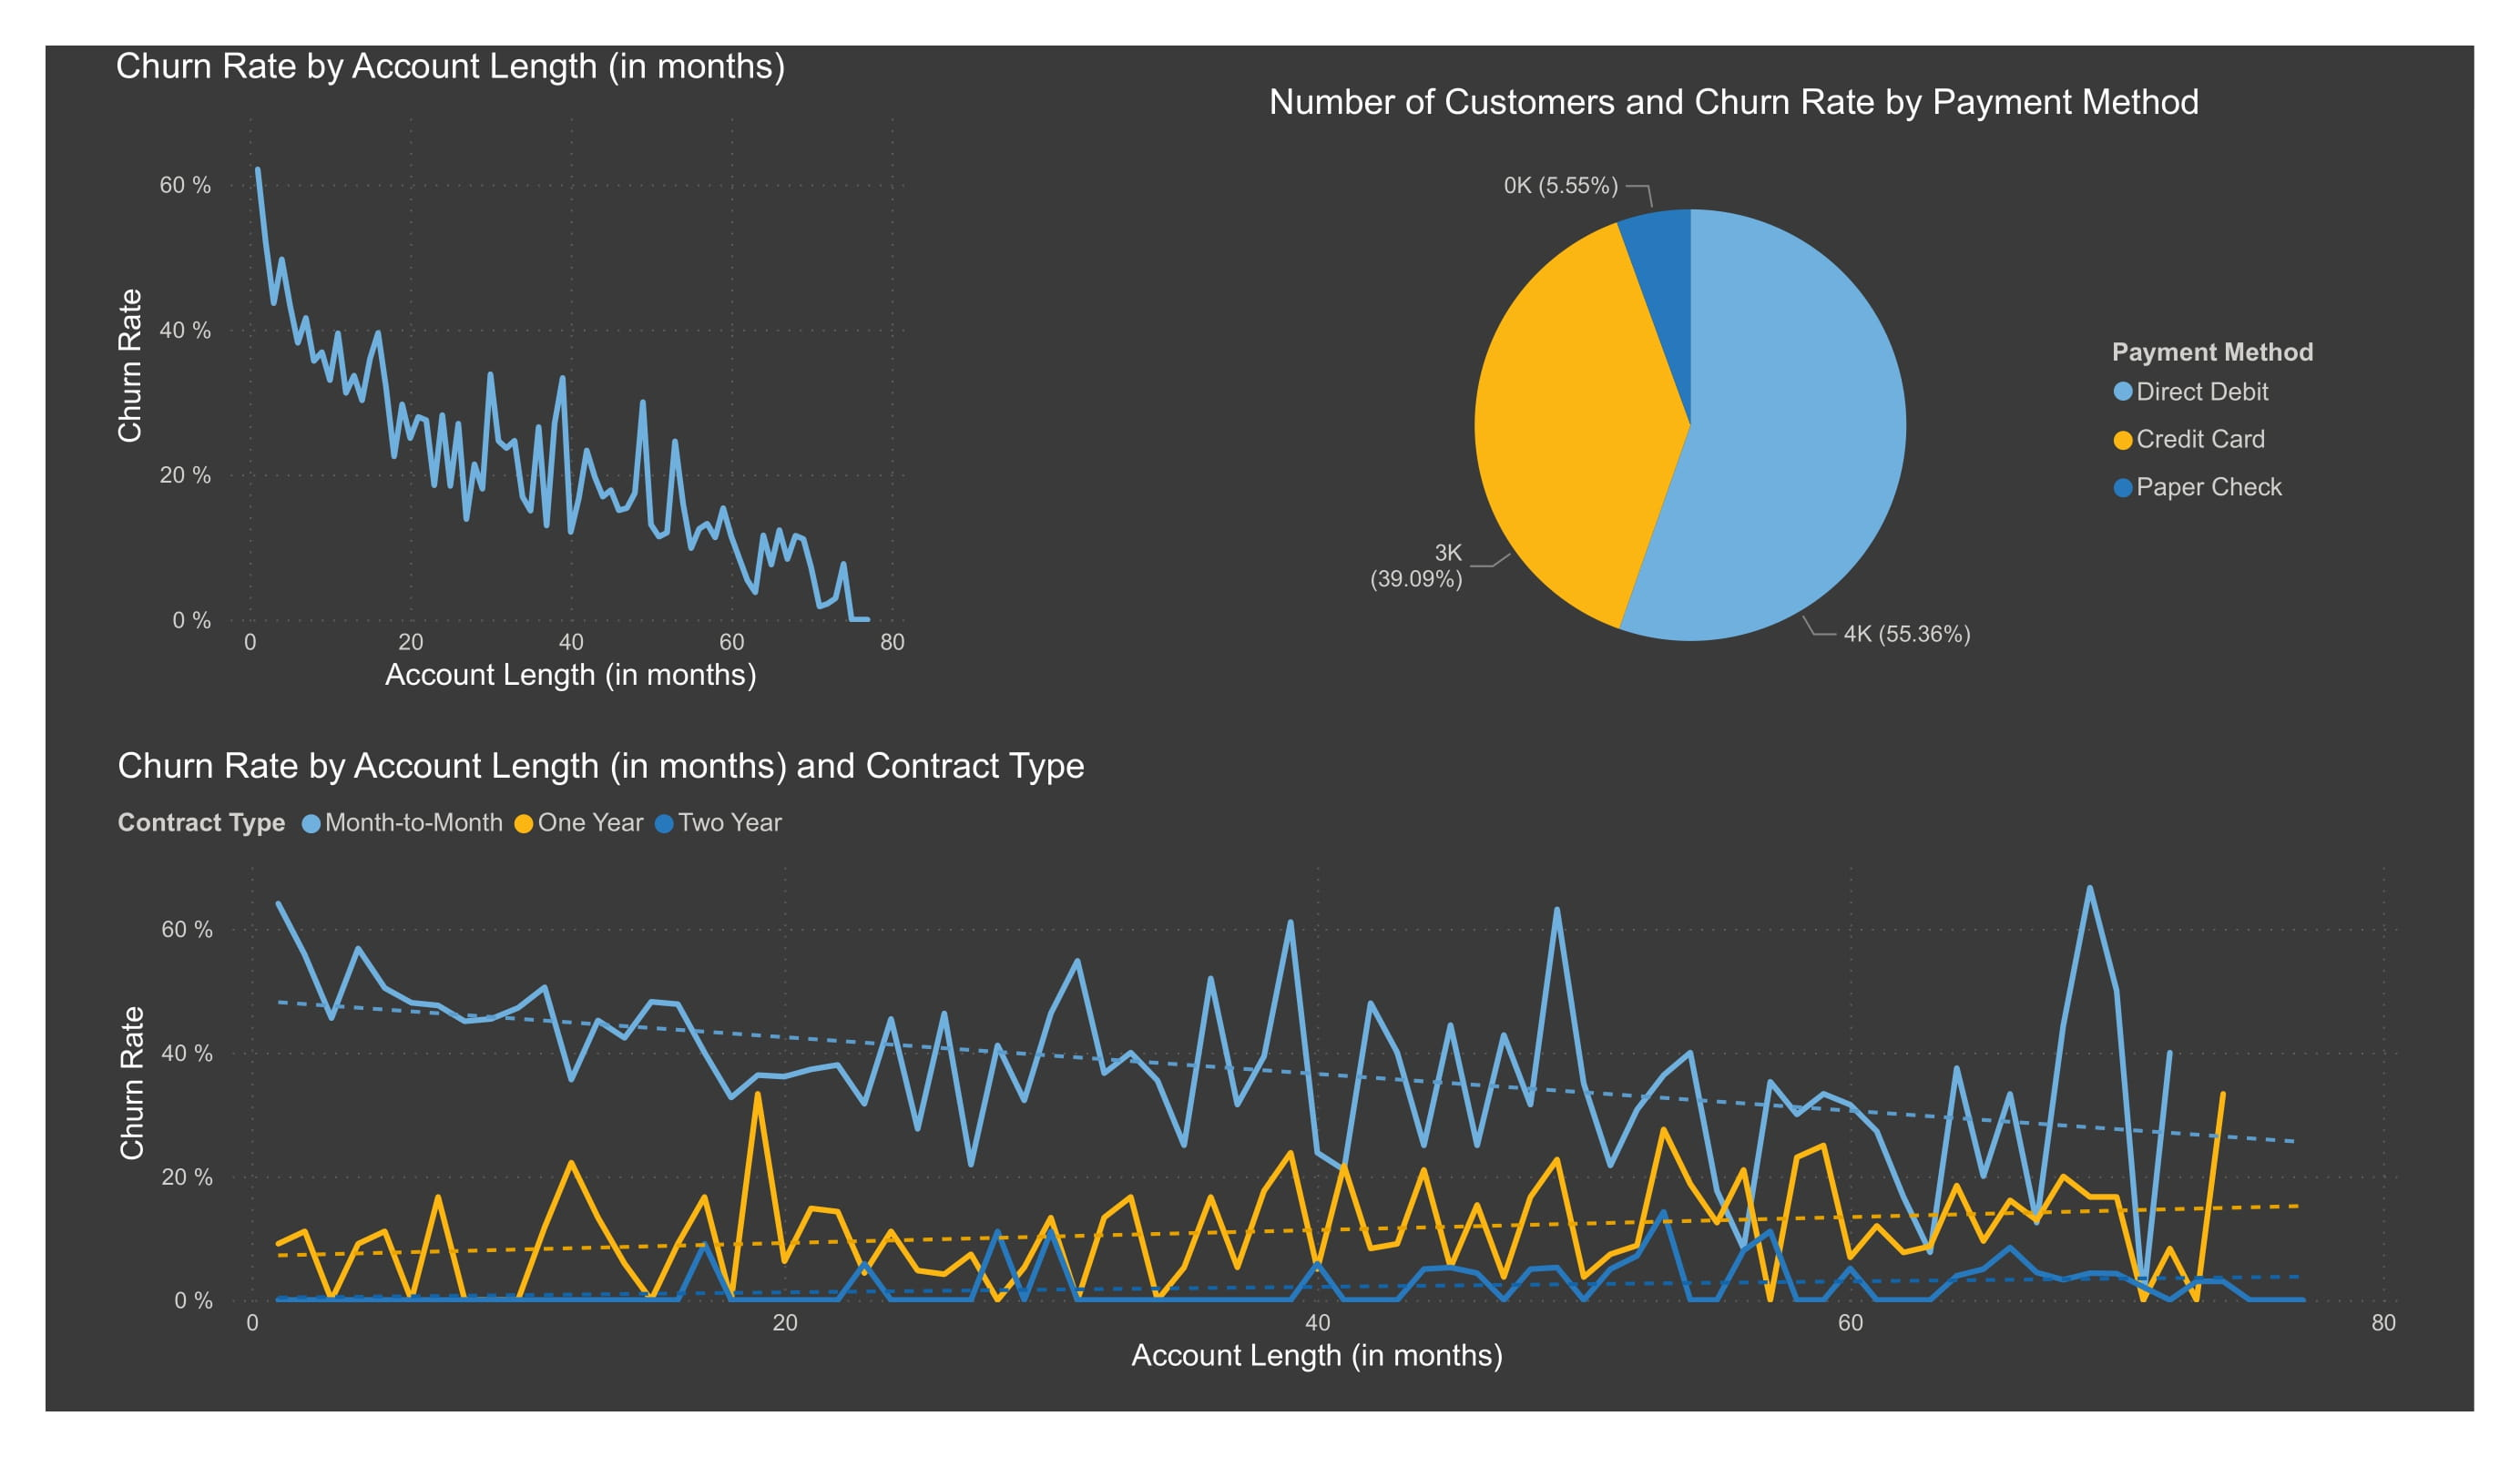

Layout of this report page (visuals, bound fields, positions):
{"tool":"powerbi","page":{"name":"Contract Type","canvas":[1280,720],"ordinal":4},"visuals":[{"type":"lineChart","fields":{"Y":["Databel - Data.Churn Rate"],"Category":["Databel - Data.Account Length (in months)"]},"box":[32.2,0,429.4,344.8],"z":0,"group":"g1"},{"type":"lineChart","fields":{"Y":["Databel - Data.Churn Rate"],"Category":["Databel - Data.Account Length (in months)"],"Series":["Databel - Data.Contract Type"]},"box":[32.8,369.1,1214.5,335.1],"z":0},{"type":"group","id":"g1","title":"Group 1","box":[32.2,0,1184.7,360.3],"z":1000},{"type":"pieChart","fields":{"Category":["Databel - Data.Payment Method"],"Y":["Databel - Data.Number of Customers"]},"box":[640.5,19,576.5,341.3],"z":1000,"group":"g1"}]}

Visuals, with their boxes on the page's 1280x720 design canvas (x1, y1, x2, y2). These are canvas units, not pixel positions in the 2520x1457 screenshot, which may show the page scaled, cropped or inside an application window:
lineChart - Databel - Data.Churn Rate x Databel - Data.Account Length (in months): (left=32, top=0, right=462, bottom=345)
lineChart - Databel - Data.Churn Rate x Databel - Data.Account Length (in months): (left=33, top=369, right=1247, bottom=704)
"Group 1" group: (left=32, top=0, right=1217, bottom=360)
pieChart - Databel - Data.Payment Method x Databel - Data.Number of Customers: (left=640, top=19, right=1217, bottom=360)
